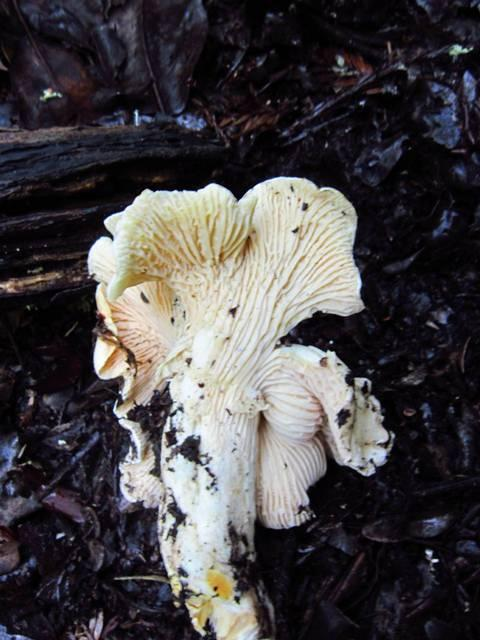Edible Mushroom: (85, 174, 394, 639)
